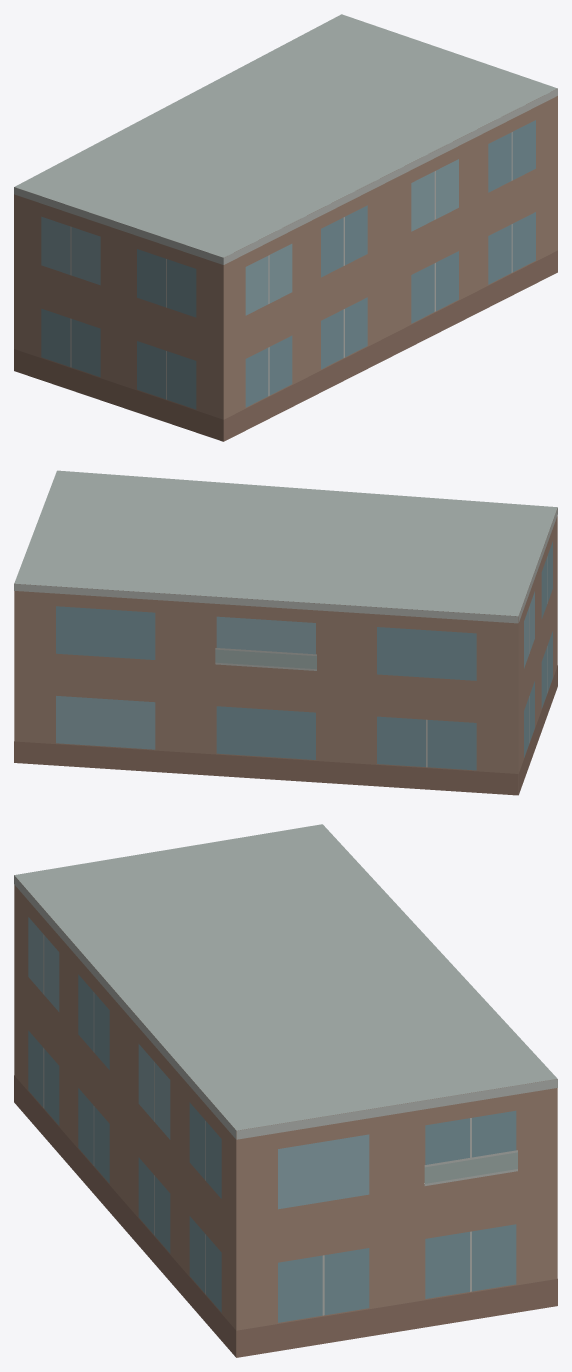
File: survey-upis-32842318.glb
3 renders of one model, top to bottom at view 1: azimuth 30°, elevation 25°; view 2: azimuth 150°, elevation 25°; view 3: azimuth 270°, elevation 25°, orthographic. The views are drawn at different scales.
Visible parts, largest first — view 1: survey-upis-32842318.tmp; view 2: survey-upis-32842318.tmp; view 3: survey-upis-32842318.tmp.
Boxes of the visible parts, x1,y1,x2,y2 form: survey-upis-32842318.tmp: (14, 14, 557, 441); survey-upis-32842318.tmp: (14, 470, 557, 795); survey-upis-32842318.tmp: (14, 824, 557, 1357).
Bounding box in the file's own units: 17.67 × 6.1 × 13.24.
